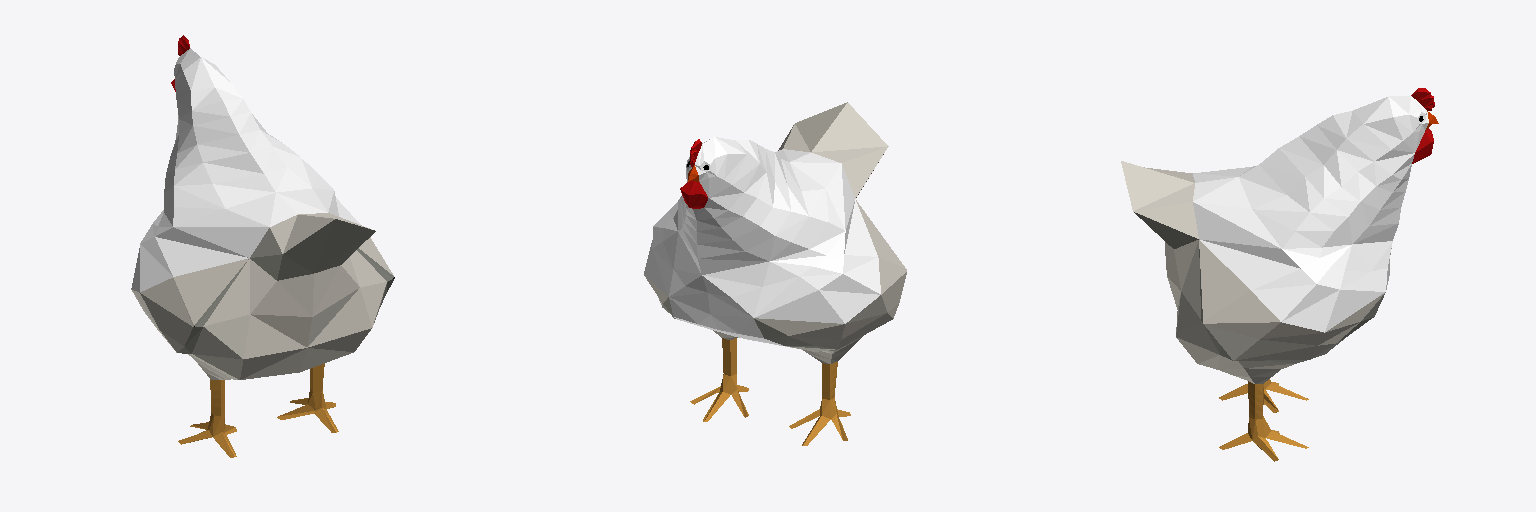
File: frame2.obj
The picture shows the model from 3 angles: view 1: azimuth 30°, elevation 25°; view 2: azimuth 150°, elevation 25°; view 3: azimuth 270°, elevation 25°; orthographic projection.
Visible parts, largest first — view 1: frame1:Chicken; view 2: frame1:Chicken; view 3: frame1:Chicken.
Boxes of the visible parts, x1=… form: frame1:Chicken: x1=131, y1=35, x2=394, y2=457; frame1:Chicken: x1=644, y1=102, x2=906, y2=445; frame1:Chicken: x1=1121, y1=88, x2=1438, y2=461.
Size of the model in its own units: 2.14 by 3 by 2.58.